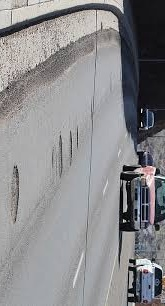pothole: (9, 164, 21, 224), (55, 135, 62, 181), (68, 126, 72, 168), (76, 125, 80, 149)
